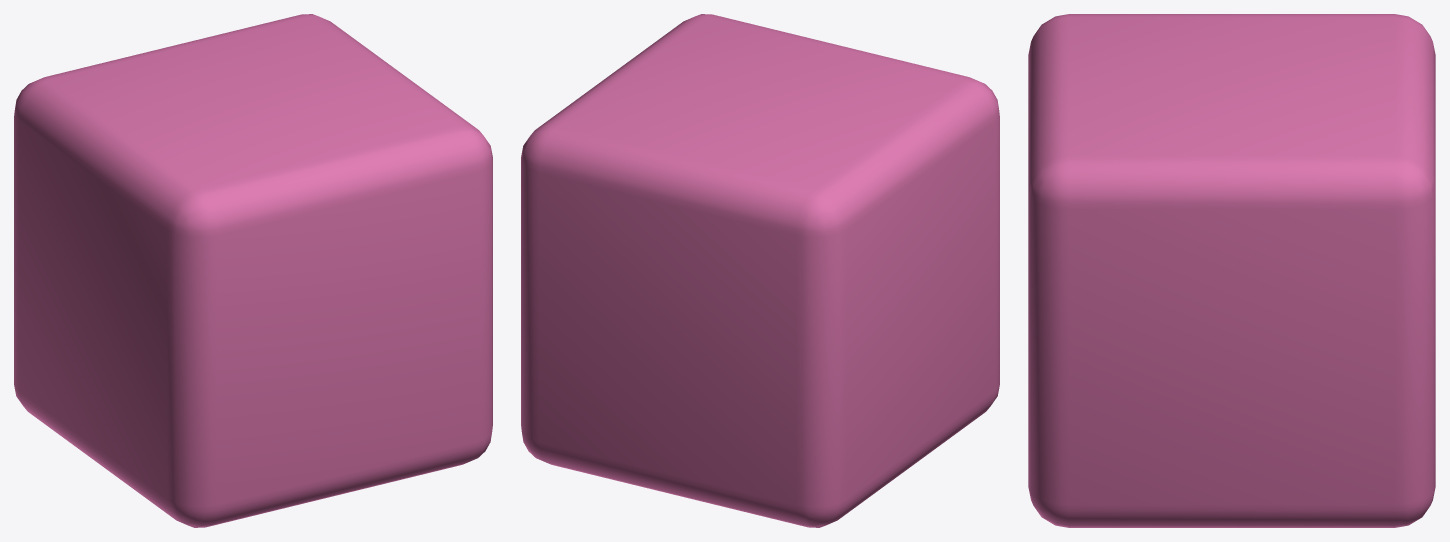
Rendered from Roundcube.gltf.
3 renders of one model, left to right at view 1: azimuth 30°, elevation 25°; view 2: azimuth 150°, elevation 25°; view 3: azimuth 270°, elevation 25°, orthographic. The views are drawn at different scales.
Visible parts, largest first — view 1: Roundcube; view 2: Roundcube; view 3: Roundcube.
Boxes of the visible parts, x1,y1,x2,y2 form: Roundcube: (14, 14, 492, 527); Roundcube: (521, 14, 999, 527); Roundcube: (1028, 14, 1435, 527).
Bounding box in the file's own units: 2 × 2 × 2.
